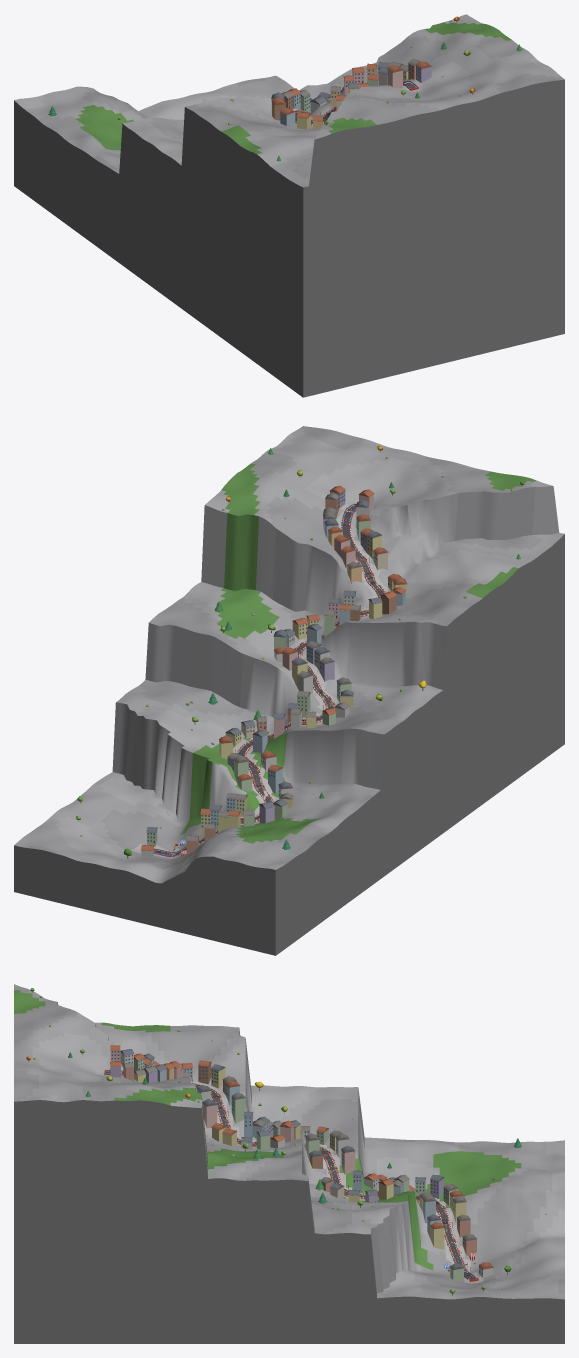
3 renders of one model, top to bottom at view 1: azimuth 30°, elevation 25°; view 2: azimuth 150°, elevation 25°; view 3: azimuth 270°, elevation 25°, orthographic. The views are drawn at different scales.
Visible parts, largest first — view 1: grass, buildings; view 2: grass, buildings, road, hay; view 3: grass, buildings, road, hay.
Boxes of the visible parts, left/top/right/bottom form: grass: left=14, top=14, right=564, bottom=397; buildings: left=271, top=59, right=431, bottom=129; grass: left=14, top=426, right=564, bottom=955; buildings: left=141, top=485, right=406, bottom=858; road: left=153, top=505, right=384, bottom=855; hay: left=153, top=503, right=386, bottom=856; grass: left=14, top=984, right=564, bottom=1343; buildings: left=110, top=1045, right=493, bottom=1280; road: left=105, top=1071, right=475, bottom=1279; hay: left=104, top=1069, right=478, bottom=1281.
Bounding box in the file's own units: 230 × 221 × 440.
